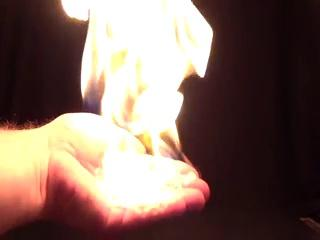Fire: (55, 0, 215, 208)
